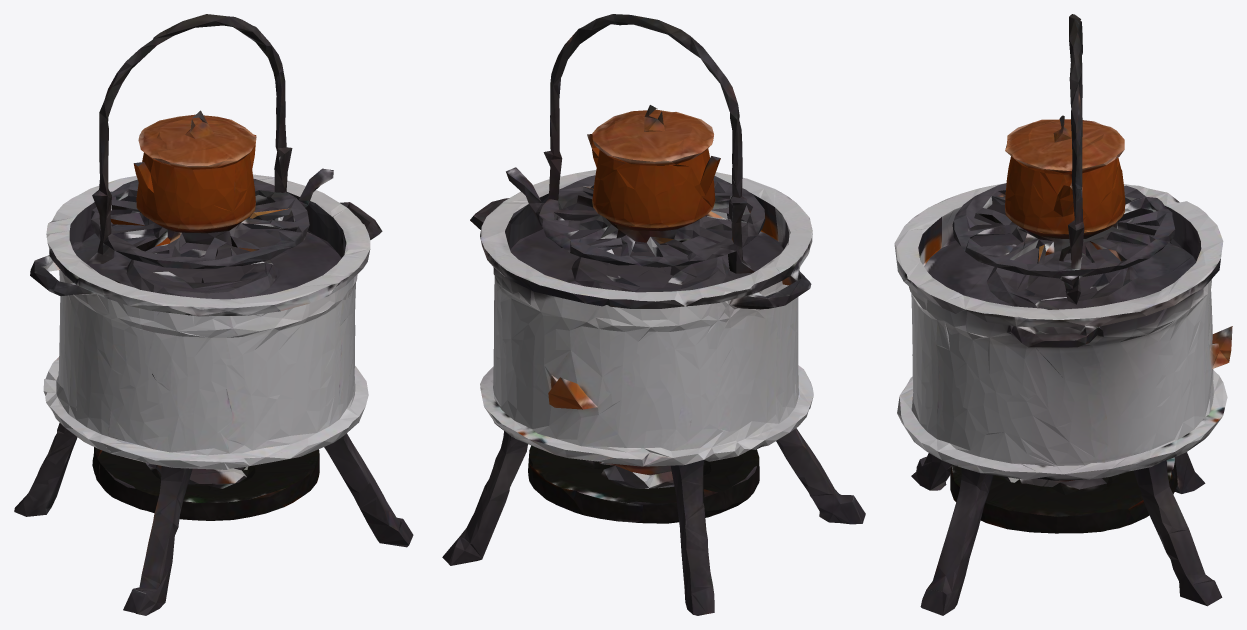
The model's file is bj89_coal_stove_kettle.glb.
The picture shows the model from 3 angles, left to right: view 1: azimuth 30°, elevation 25°; view 2: azimuth 150°, elevation 25°; view 3: azimuth 270°, elevation 25°; orthographic projection. The views are drawn at different scales.
Parts seen in each view (by area): view 1: bj89_coal_stove_kettle_tex; view 2: bj89_coal_stove_kettle_tex; view 3: bj89_coal_stove_kettle_tex.
Part boxes in pixels (x1,y1,x2,y2): bj89_coal_stove_kettle_tex: [14, 14, 413, 615]; bj89_coal_stove_kettle_tex: [442, 14, 865, 615]; bj89_coal_stove_kettle_tex: [894, 14, 1232, 615].
Bounding box in the file's own units: 0.5555 × 0.85 × 0.5049.
1 material, 1 textured.
